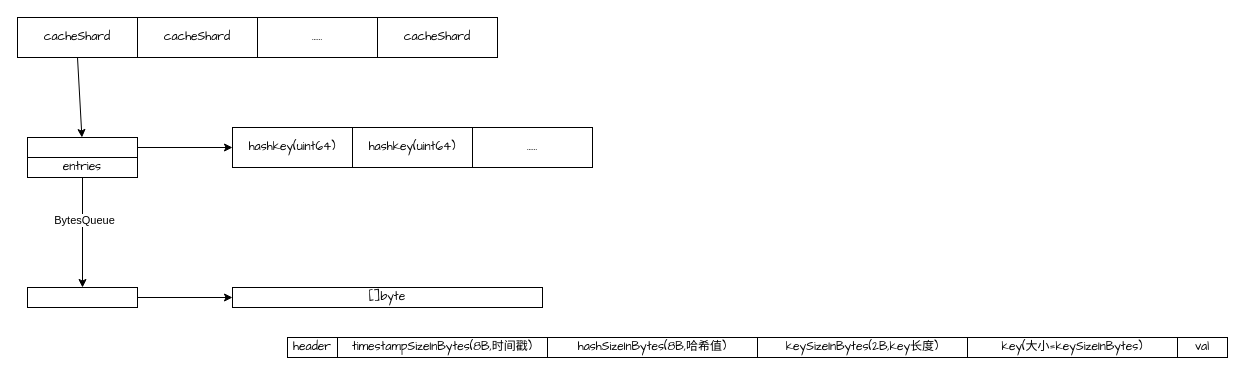
This 1245x375 diagram has some shape labels left out. The shapes that lost their labels are listed below. From the top down, each one's box as (x1, y1, x2, y2) in pixels, then its label:
(26, 136, 138, 158): hashmap
(26, 286, 138, 308): array
